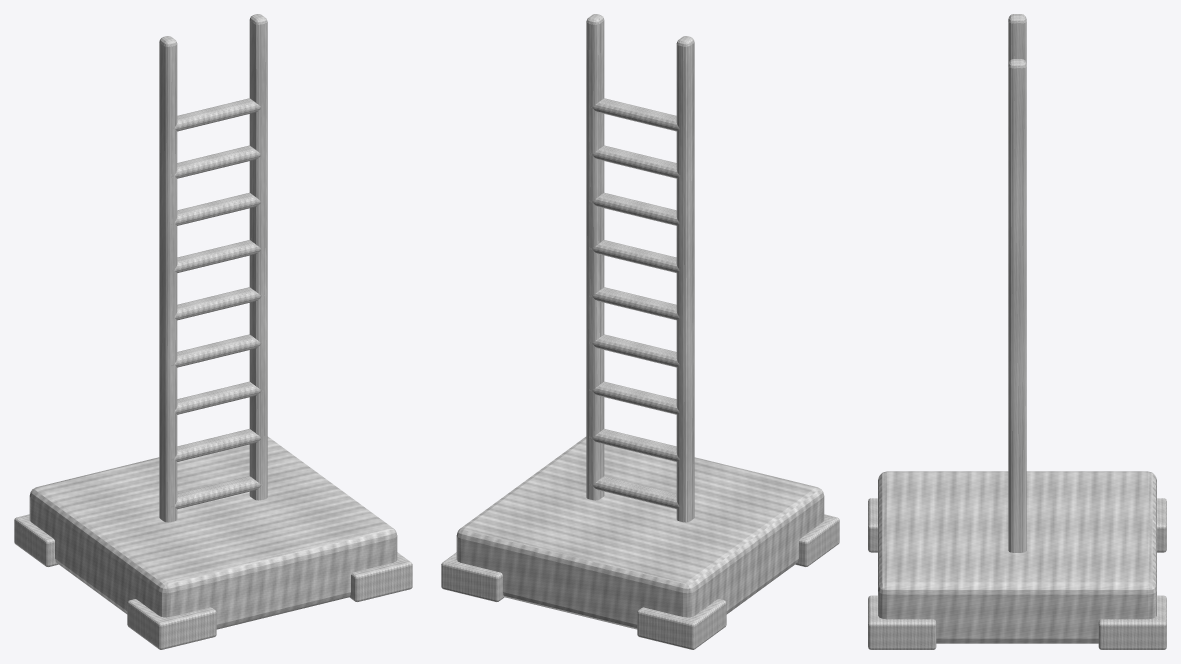
Rendered from ladder_variant_b.glb.
3 renders of one model, left to right at view 1: azimuth 30°, elevation 25°; view 2: azimuth 150°, elevation 25°; view 3: azimuth 270°, elevation 25°, orthographic.
Parts seen in each view (by area): view 1: Foundation.001, Ladder rail.002, Ladder rail.003, Mounting foot.004, Mounting foot.006, Mounting foot.005, Ladder rung.009, Ladder rung.012, Ladder rung.016, Ladder rung.011, Ladder rung.010, Ladder rung.013 (+3 smaller); view 2: Foundation.001, Ladder rail.002, Ladder rail.003, Mounting foot.005, Mounting foot.007, Mounting foot.004, Ladder rung.016, Ladder rung.011, Ladder rung.012, Ladder rung.013, Ladder rung.015, Ladder rung.009 (+3 smaller); view 3: Foundation.001, Ladder rail.003, Mounting foot.006, Mounting foot.007, Ladder rail.002, Mounting foot.004, Mounting foot.005.
Part boxes in pixels (box(x1,y1,x2,y2)): Foundation.001: box(29, 436, 397, 629); Ladder rail.002: box(159, 36, 177, 522); Ladder rail.003: box(249, 14, 267, 500); Mounting foot.004: box(127, 599, 216, 649); Mounting foot.006: box(349, 552, 412, 601); Mounting foot.005: box(14, 514, 58, 566); Ladder rung.009: box(171, 476, 262, 509); Ladder rung.012: box(171, 334, 261, 367); Ladder rung.016: box(171, 145, 260, 178); Ladder rung.011: box(173, 381, 262, 414); Ladder rung.010: box(171, 429, 260, 461); Ladder rung.013: box(174, 287, 264, 320); Foundation.001: box(456, 436, 824, 629); Ladder rail.002: box(676, 36, 694, 522); Ladder rail.003: box(586, 14, 604, 500); Mounting foot.005: box(637, 599, 726, 649); Mounting foot.007: box(441, 552, 504, 601); Mounting foot.004: box(795, 514, 839, 566); Ladder rung.016: box(589, 145, 679, 178); Ladder rung.011: box(589, 381, 679, 414); Ladder rung.012: box(589, 334, 679, 367); Ladder rung.013: box(589, 287, 679, 320); Ladder rung.015: box(589, 192, 679, 225); Ladder rung.009: box(589, 476, 679, 509); Foundation.001: box(878, 471, 1156, 643); Ladder rail.003: box(1008, 59, 1026, 552); Mounting foot.006: box(868, 595, 936, 649); Mounting foot.007: box(1098, 595, 1166, 649); Ladder rail.002: box(1008, 14, 1026, 63); Mounting foot.004: box(868, 498, 877, 552); Mounting foot.005: box(1157, 498, 1166, 552).
Size of what is drawn, in the model's own units: 1.97 by 4 by 1.97.
3 materials, 3 textured.
